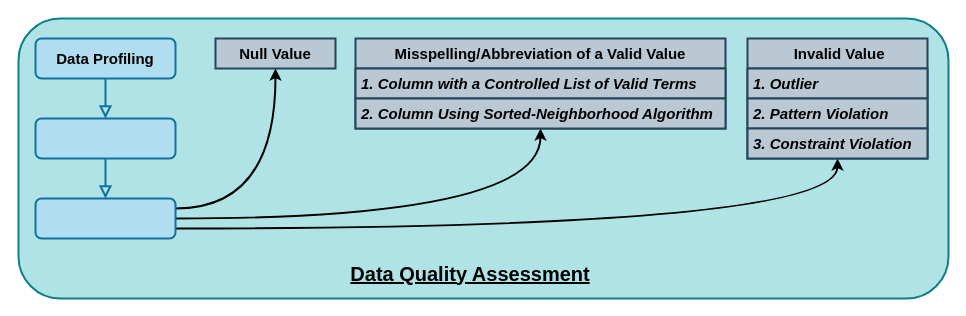
The diagram is 966 pixels wide and 316 high, and some of its shapes have lost their labels. Here are the shapes that lost their labels. From the top down, the centre of each, then its label:
the point at 105,138: Manual Inspection
the point at 105,218: Error Detection
